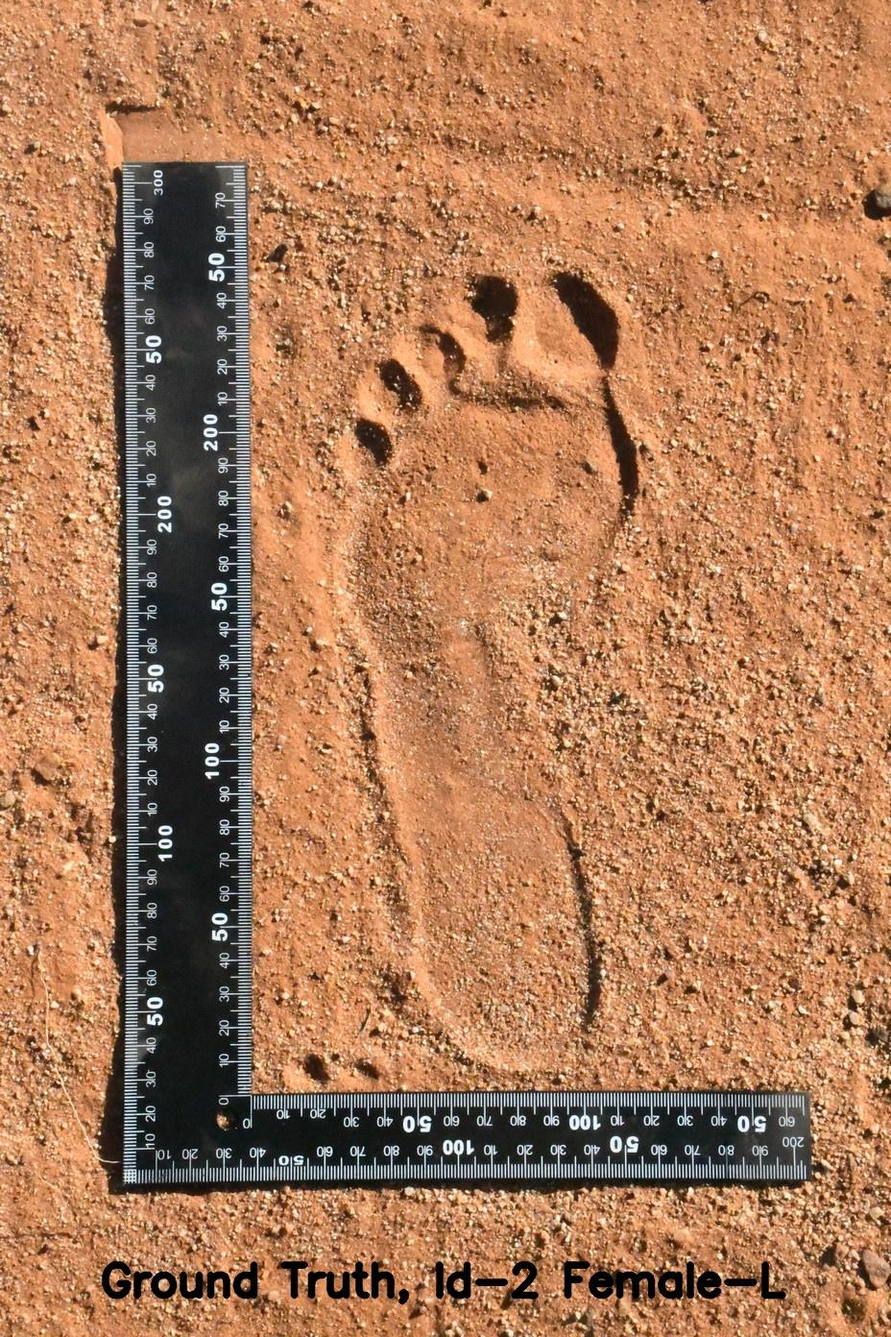human_footprint: (279, 193, 692, 1092)
